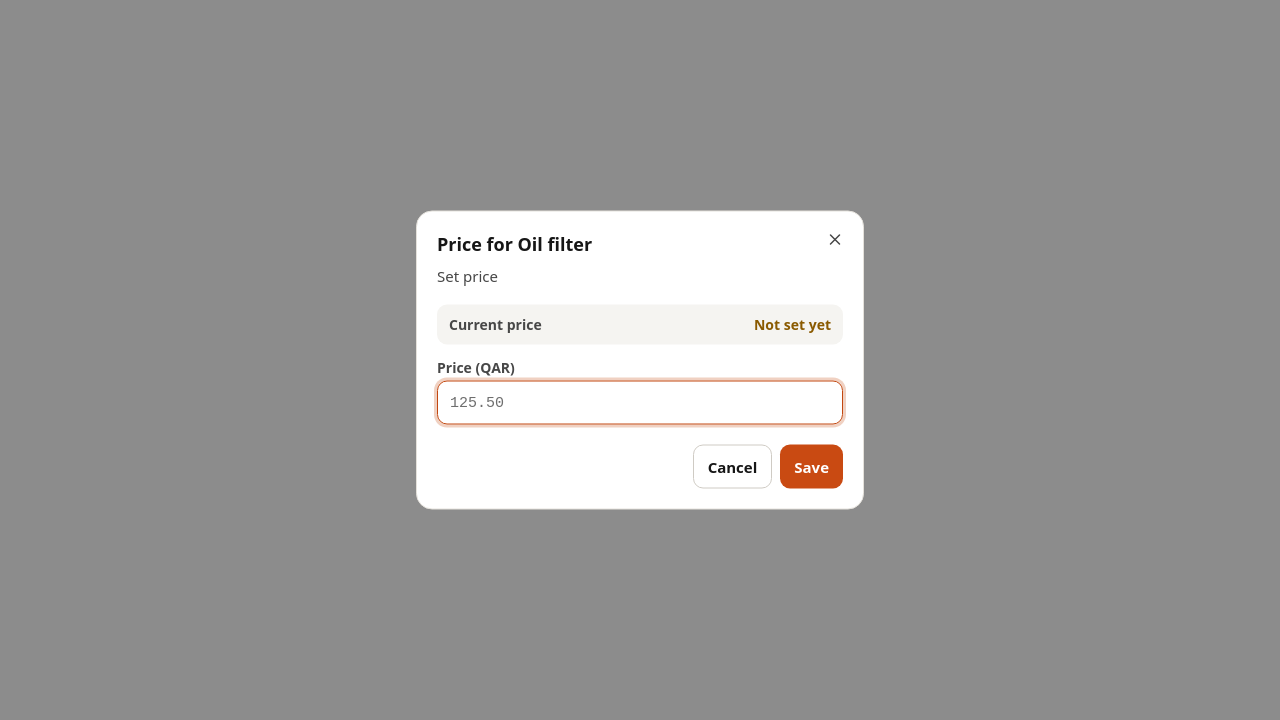
price dialog › shows the Validation message for an invalid price and sends nothing
Expected: the text "Not set yet" is shown, [754,314,831,334]
Type "12.345" into the field labelled "Price (QAR)" at (640, 402), box [437,380,843,424]
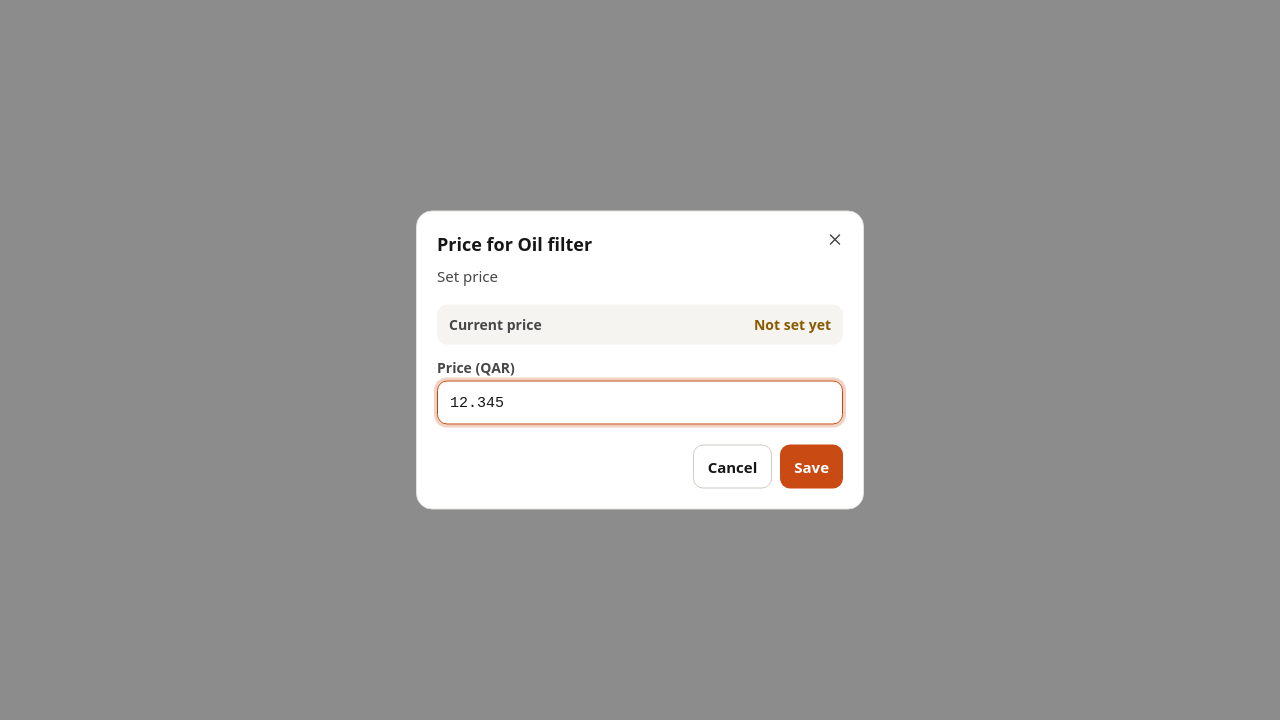
Click the button "Save" at (812, 466), box [780,444,843,488]
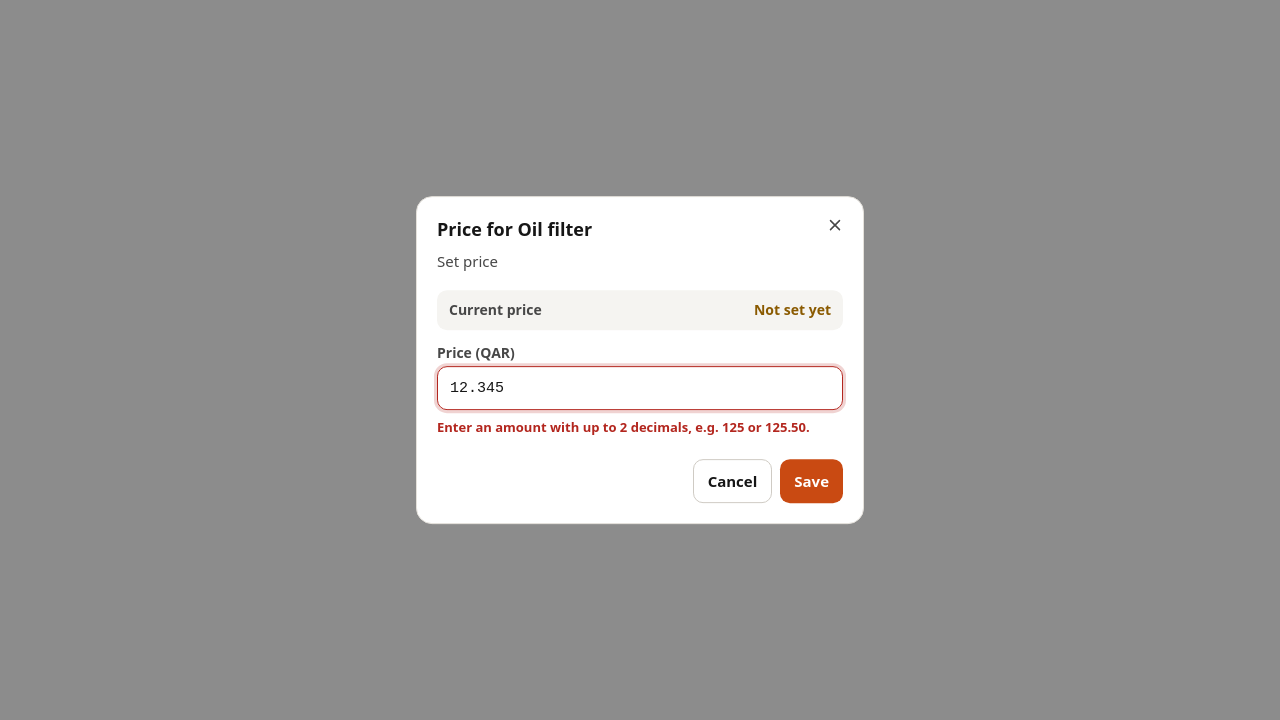
Now the text "Enter an amount with up to 2 decimals, e.g. 125 or 125.50." is shown, box [437,416,843,439]
